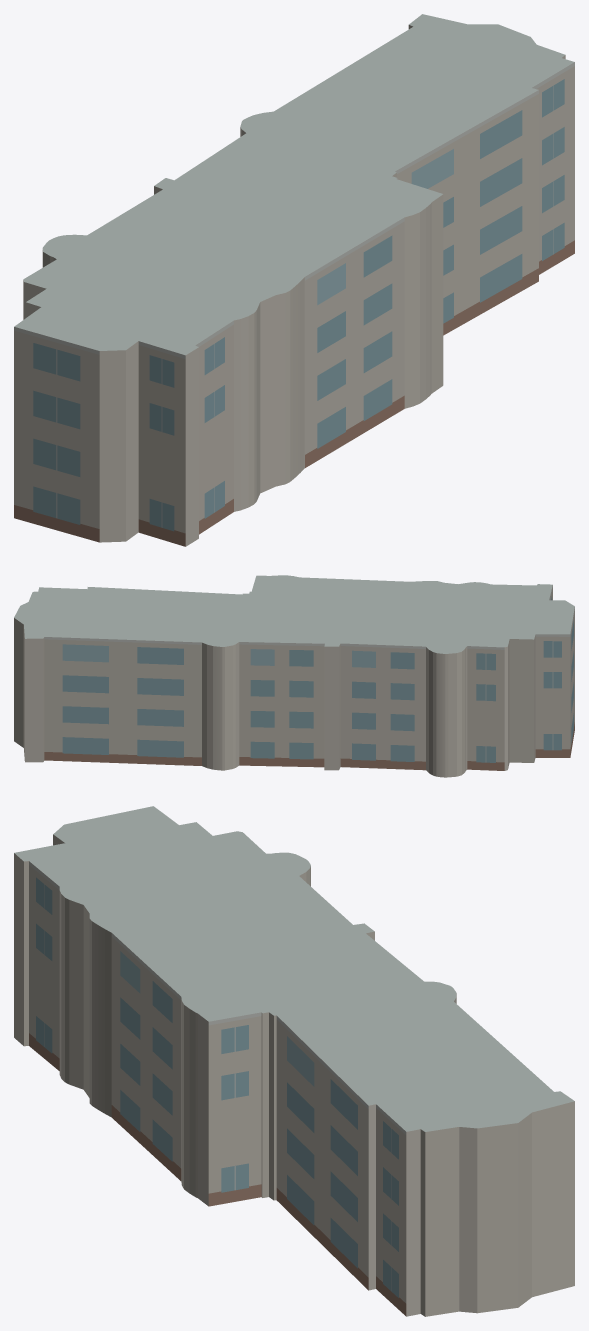
The model's file is survey-upis-32979727.glb.
3 views of the same model, one above another, from view 1: azimuth 30°, elevation 25°; view 2: azimuth 150°, elevation 25°; view 3: azimuth 270°, elevation 25° (orthographic). The views are drawn at different scales.
Visible parts, largest first — view 1: survey-upis-32979727.tmp; view 2: survey-upis-32979727.tmp; view 3: survey-upis-32979727.tmp.
Part boxes in pixels (bbox=[...]): survey-upis-32979727.tmp: bbox=[14, 14, 574, 546]; survey-upis-32979727.tmp: bbox=[14, 575, 574, 777]; survey-upis-32979727.tmp: bbox=[14, 806, 574, 1316].
Size of the model in its own units: 45.79 by 12.1 by 33.29.
